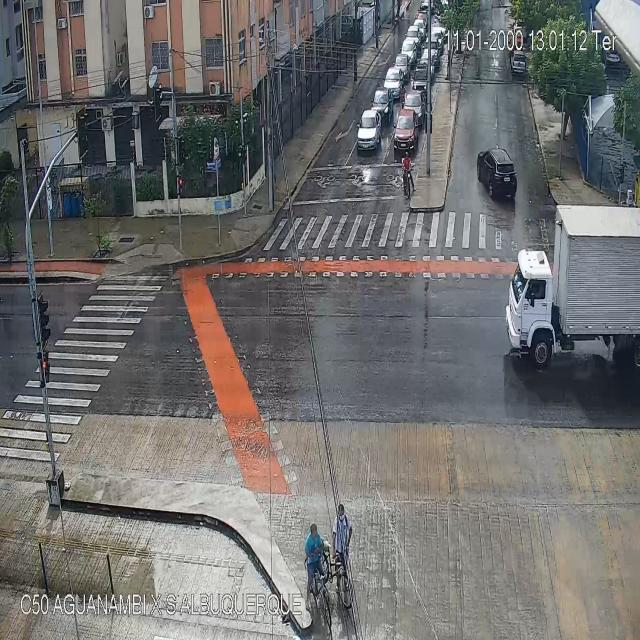Car: (477, 147, 518, 203), (393, 110, 418, 154), (356, 110, 381, 152), (402, 91, 426, 128), (507, 41, 529, 79), (371, 87, 393, 123), (383, 66, 404, 99), (423, 40, 440, 68), (393, 53, 409, 82), (404, 23, 420, 52), (400, 40, 417, 65), (412, 67, 427, 95), (430, 30, 444, 52), (414, 18, 426, 41)
Motorcycle: (400, 150, 414, 201)
Truck: (504, 205, 640, 362)
